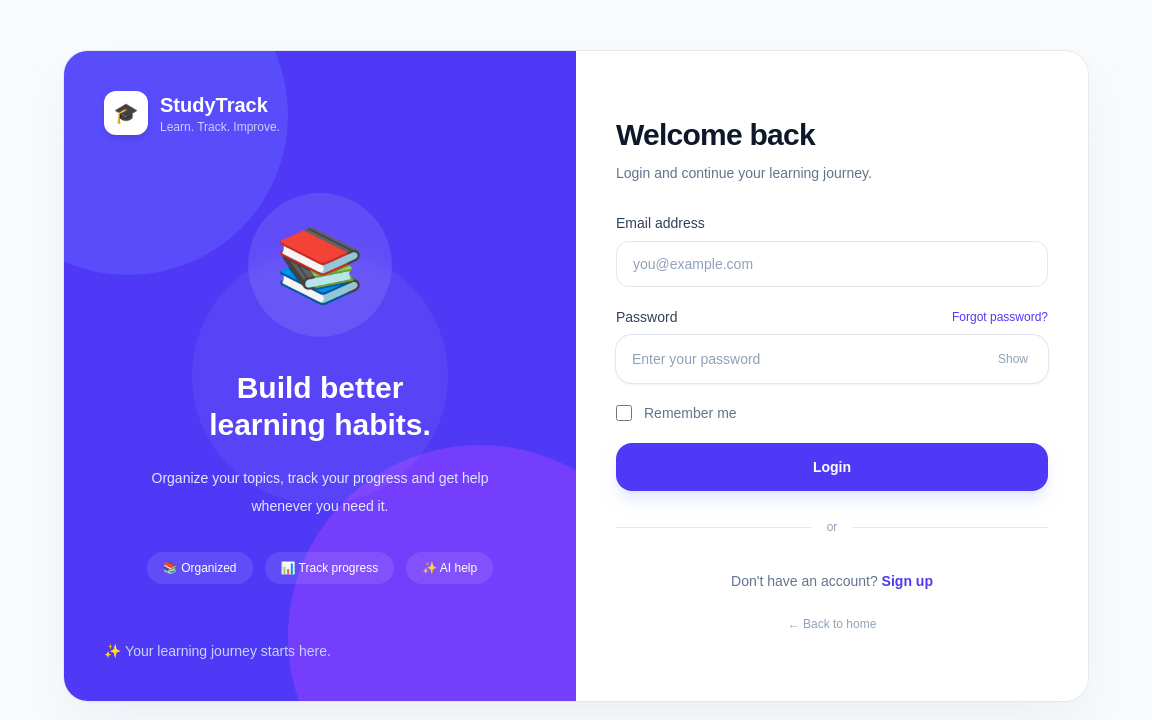
Login Page › shows validation when submitting empty form
This screenshot has width=1152, height=720.
Click the button "Login": [832, 467] box [616, 443, 1048, 491]
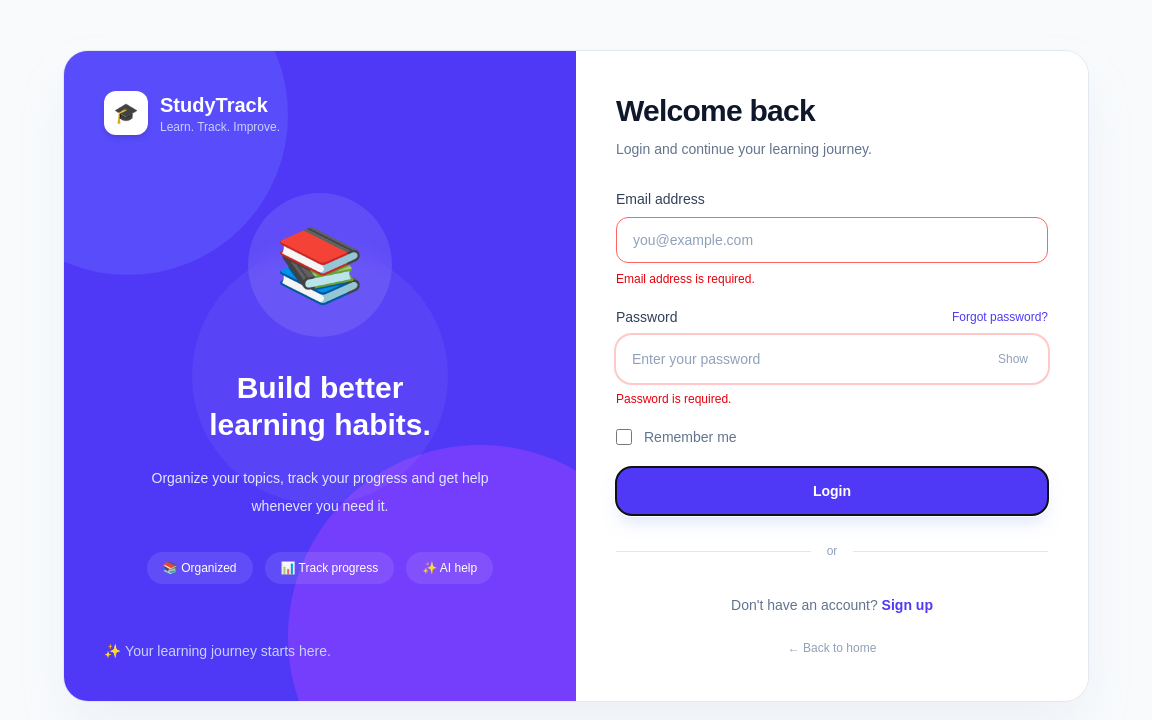
Expected: the text "Email address is required." is shown, [616, 272, 755, 286]
Expected: the text "Password is required." is shown, [616, 392, 731, 406]
